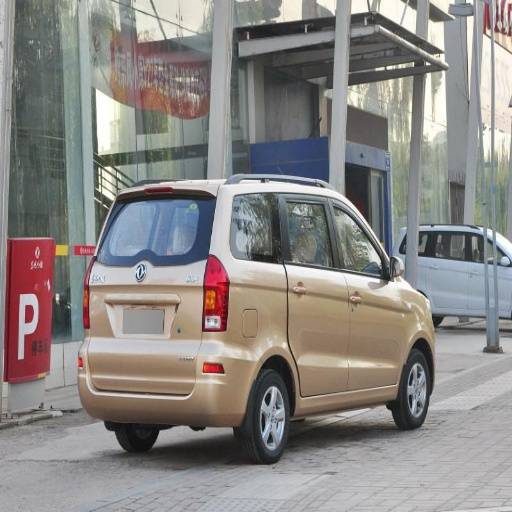back_bumper: (80, 335, 257, 422)
back_right_door: (232, 188, 349, 397)
trunk: (89, 260, 281, 389)
